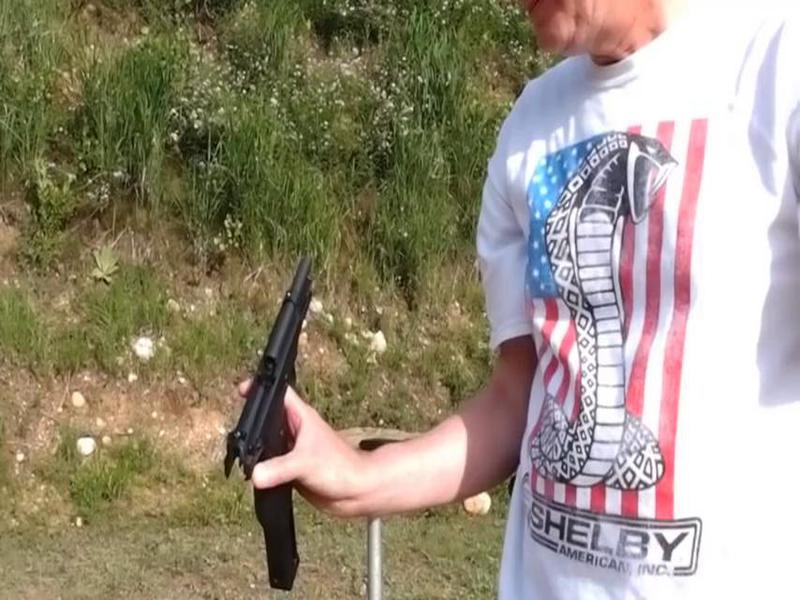Pistola: (207, 247, 355, 584)
